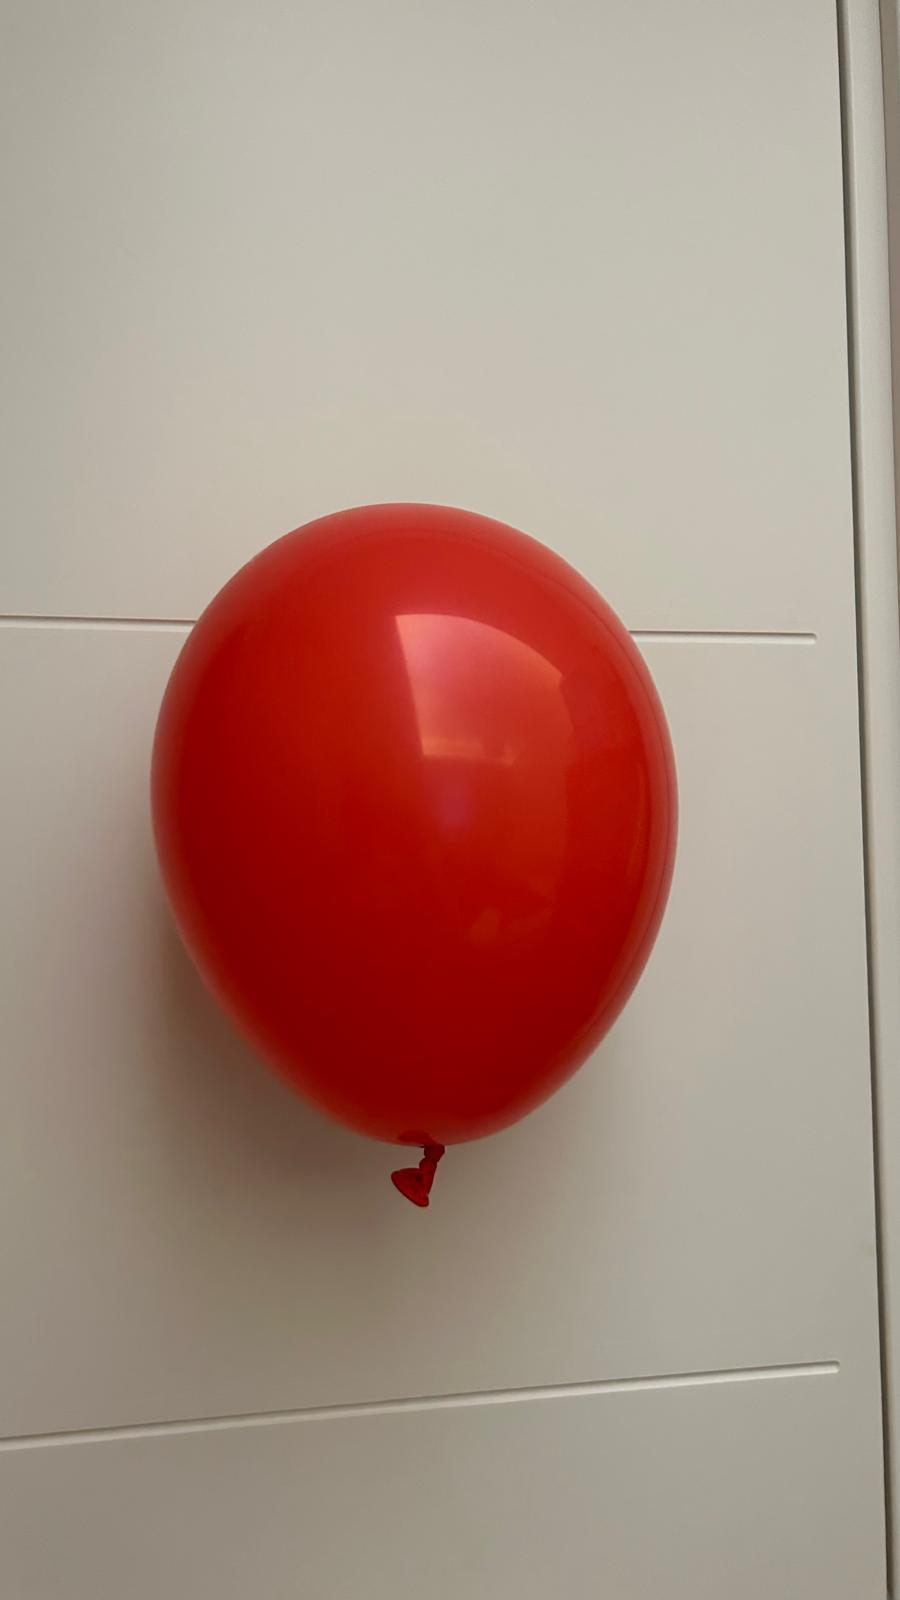red: (147, 491, 685, 1208)
